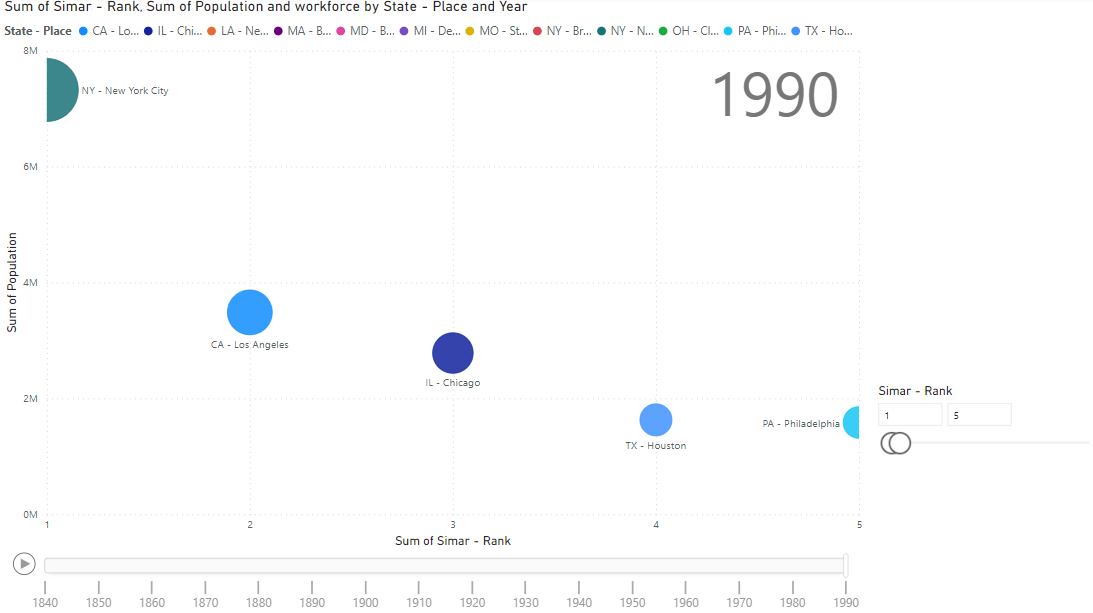

Layout of this report page (visuals, bound fields, positions):
{"tool":"powerbi","page":{"name":"Page 1","canvas":[1280,720],"ordinal":0},"visuals":[{"type":"slicer","fields":{"Values":["Simar.Simar - Rank"]},"box":[1000.1,440.4,279.9,279.9],"z":0},{"type":"scatterChart","fields":{"X":["Sum(Simar.Simar - Rank)"],"Y":["Sum(Simar.Population)"],"Size":["Simar.workforce"],"Series":["Simar.State - Place"],"Play":["Simar.Year"]},"box":[0,0,1000.1,720.3],"z":1000}]}

Visuals, with their boxes in screenshot pixels (x1, y1, x2, y2), scaled from the page's 1280x720 canvas onto the 1093x613 screenshot:
slicer - Simar.Simar - Rank: [854, 375, 1092, 612]
scatterChart - Sum(Simar.Simar - Rank) x Sum(Simar.Population): [0, 0, 854, 612]
